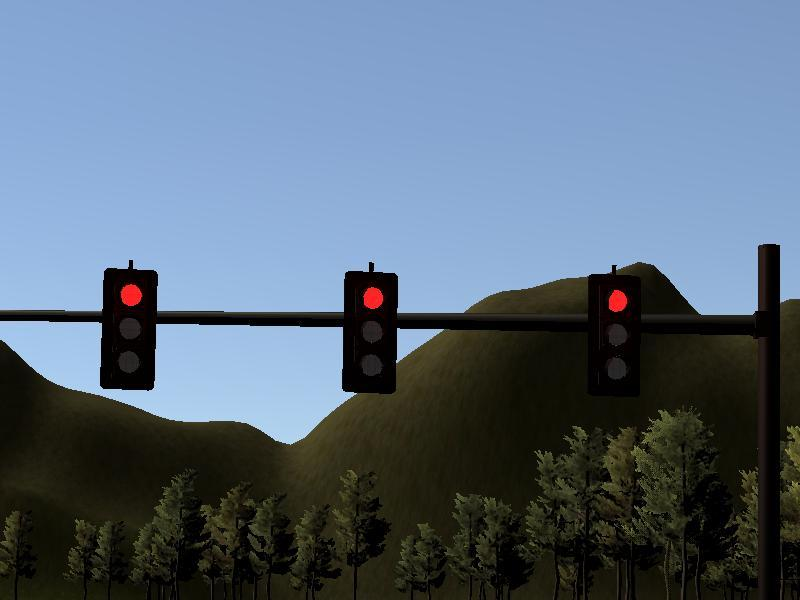Red: (102, 266, 155, 392), (588, 274, 641, 400), (343, 270, 396, 396)
